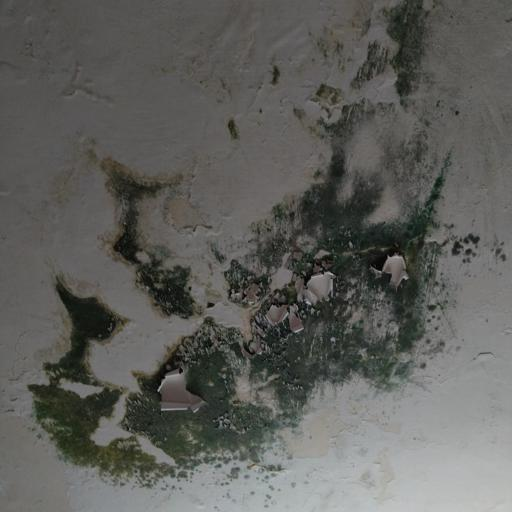algae: (31, 63, 486, 492)
